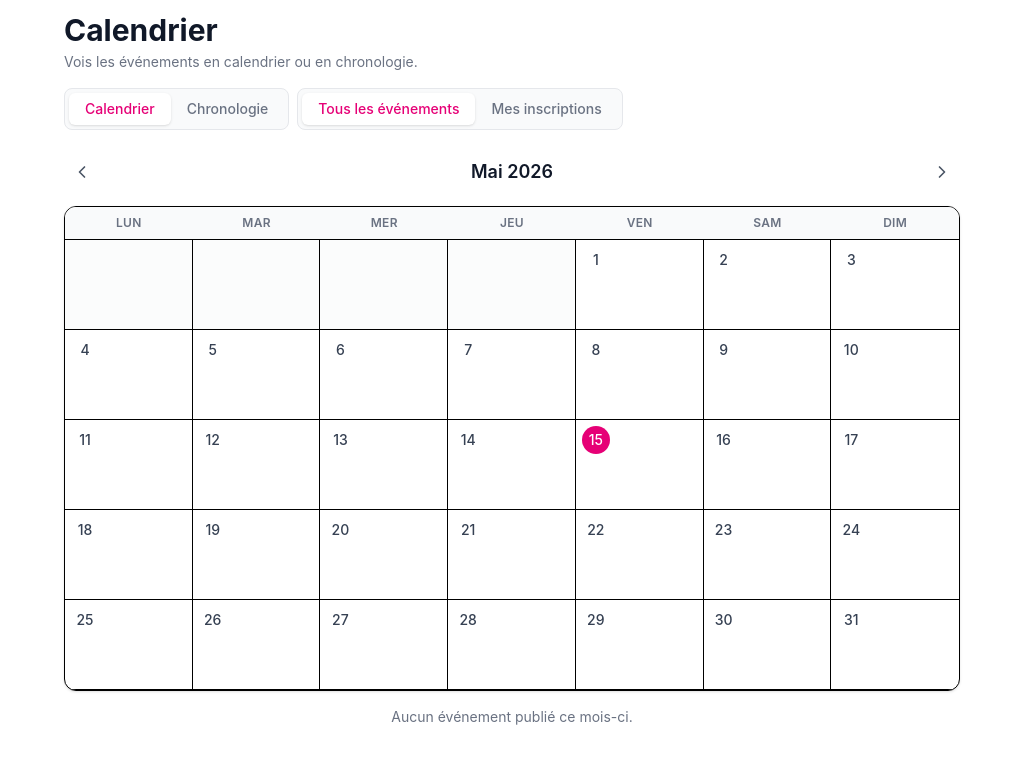
Test: CalendarPage › clicking a day opens the detail panel with the date heading
The width and height of the screenshot is (1024, 780).
Expected: the text "Aucun événement publié ce mois-ci." is shown, [391,708,633,725]
Click the button "3": (895, 285) [831,240,959,330]
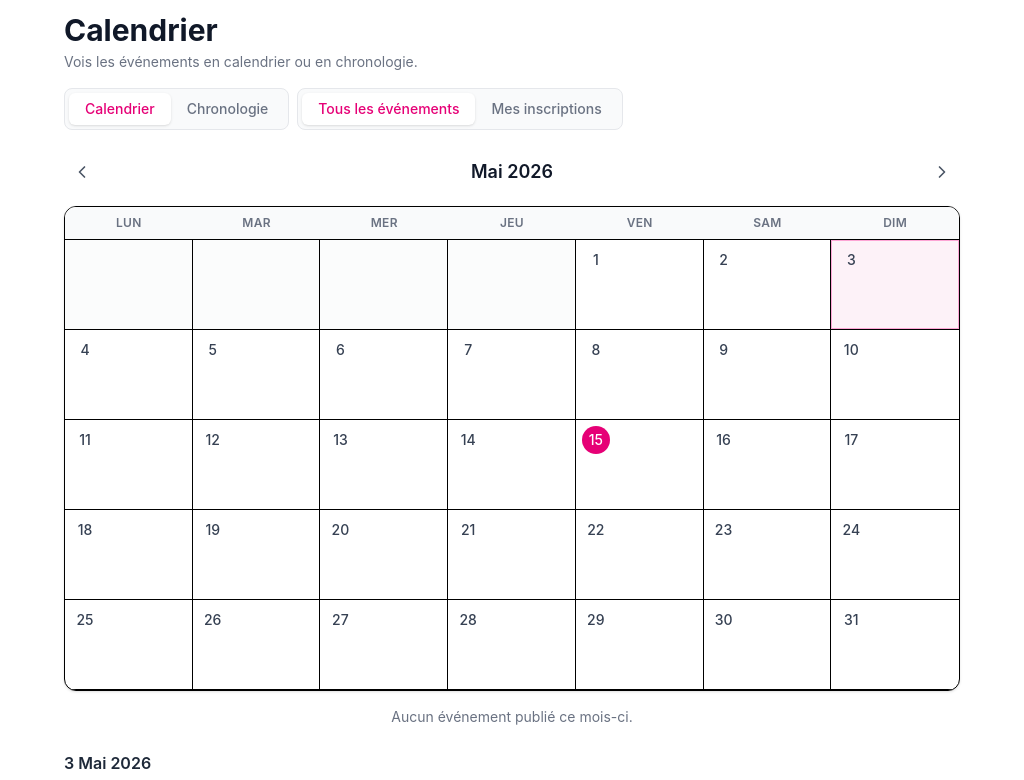
Result: the heading "3 Mai 2026" is shown at [64,753,151,773]
